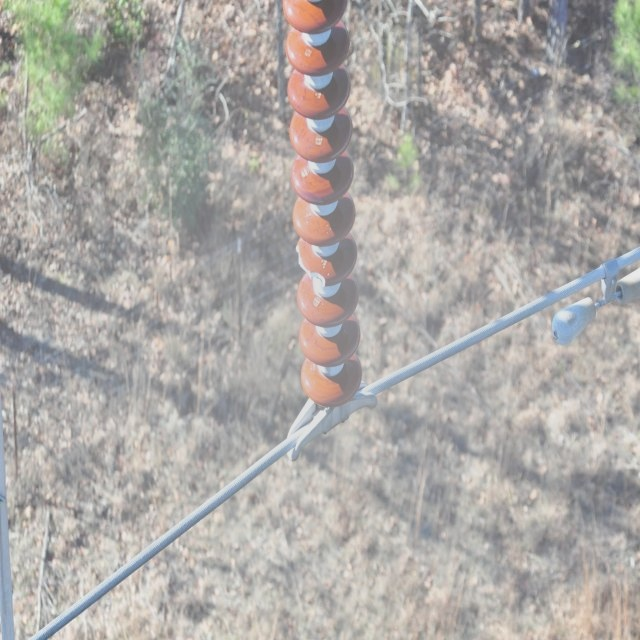broken: (294, 242, 327, 290)
insulator: (284, 0, 360, 407)
